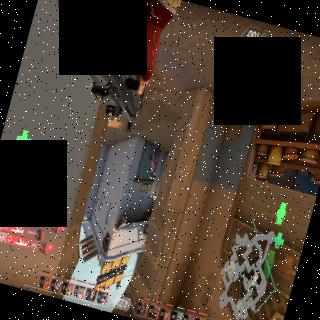ENEMY-BODY: (148, 140, 162, 172)
ENEMY-HEAD: (150, 166, 154, 171)
